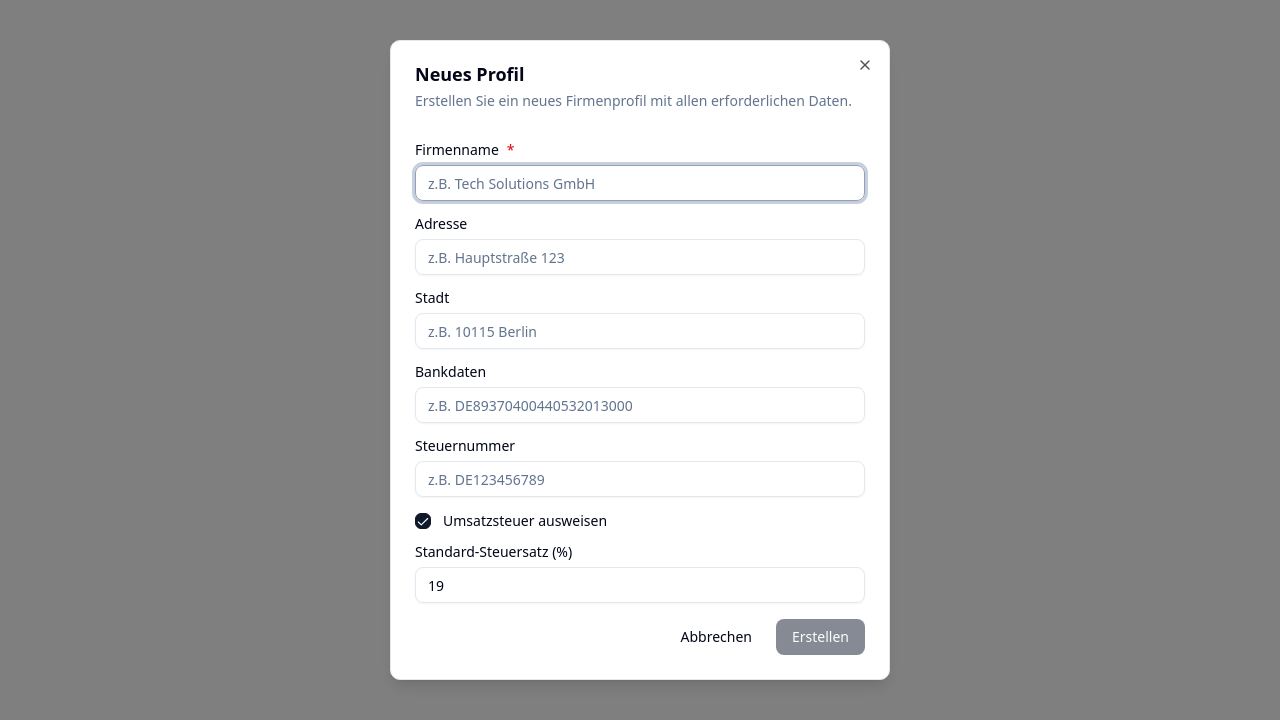
Test: ProfileDialog › toggles tax rate field based on include_tax checkbox
Expected: the number field labelled "Standard-Steuersatz (%)" is shown, [415,567,865,603]
# Uncheck include_tax
Click the checkbox named "Umsatzsteuer ausweisen" at (423, 521), box [415,513,431,529]
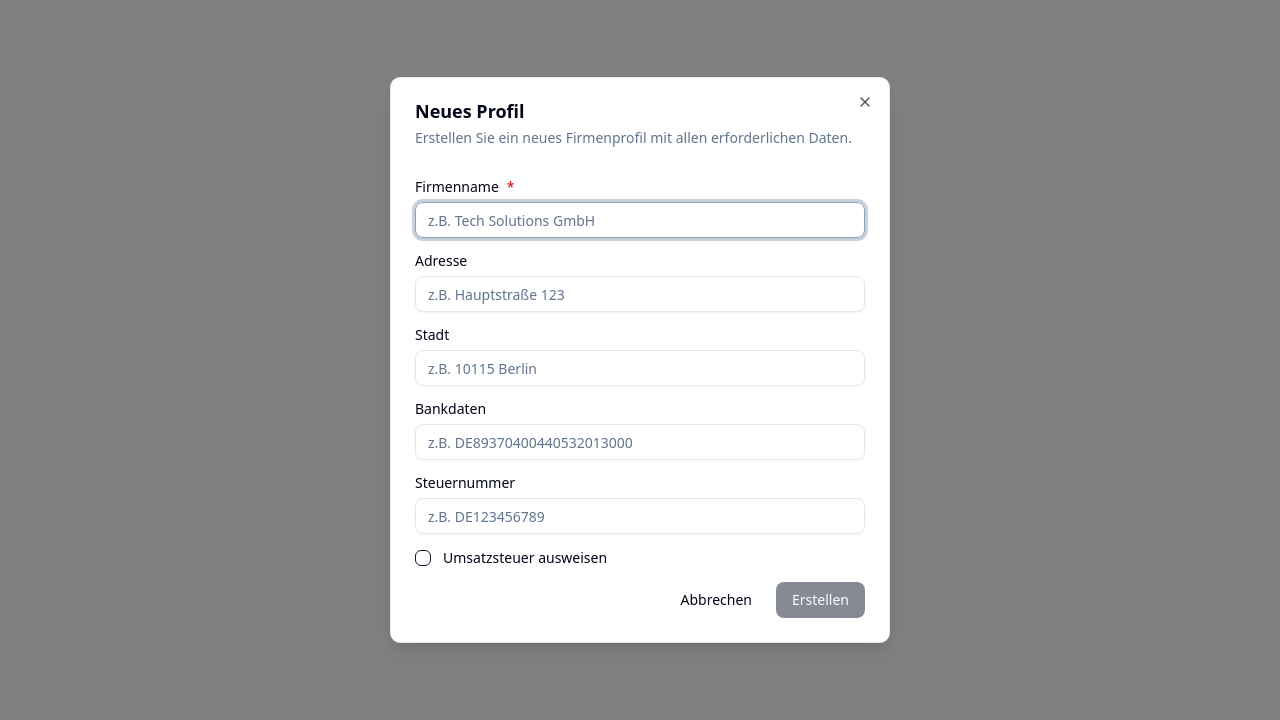
Expected: the label labelled "Standard-Steuersatz" is gone
# Check include_tax again
Click the checkbox named "Umsatzsteuer ausweisen" at (423, 558), box [415,550,431,566]
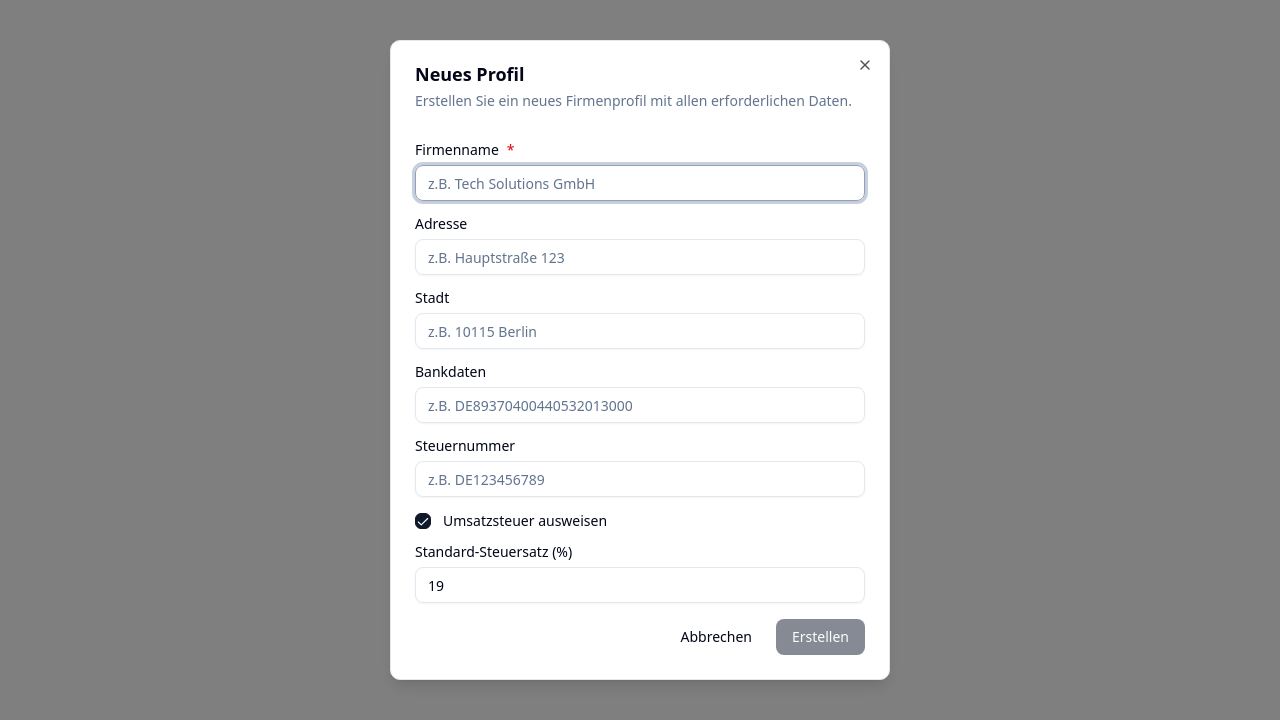
Expected: the number field labelled "Standard-Steuersatz (%)" is shown, [415,567,865,603]
